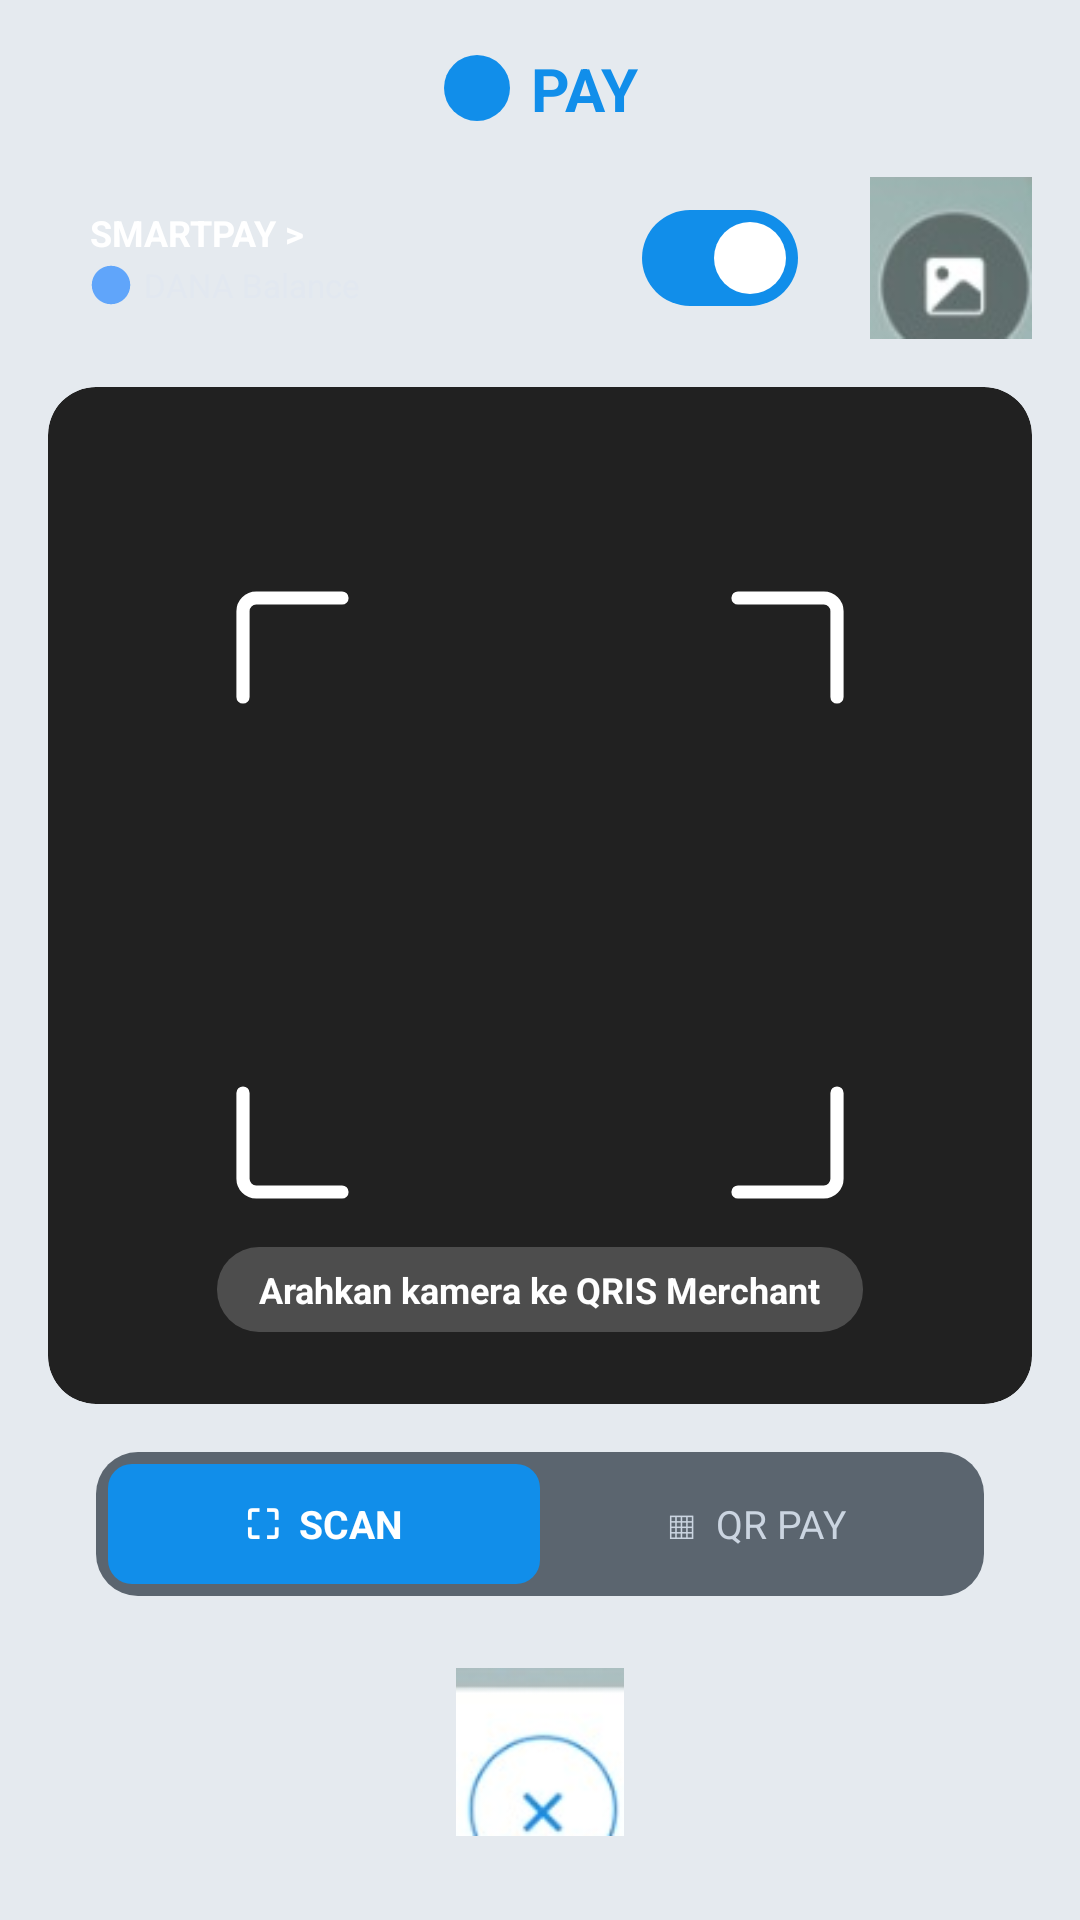

Named icons in this screenshot (1080 × 1920) and their centers, [x,y]:
Gallery: [951,258]
Tutup: [540,1752]
